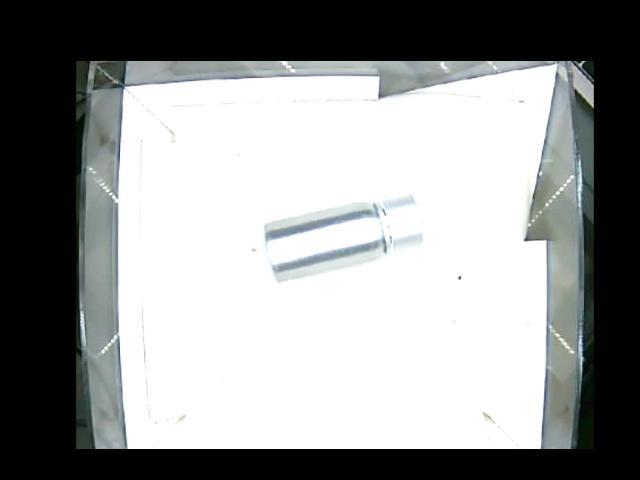Bottle: (263, 192, 423, 282)
